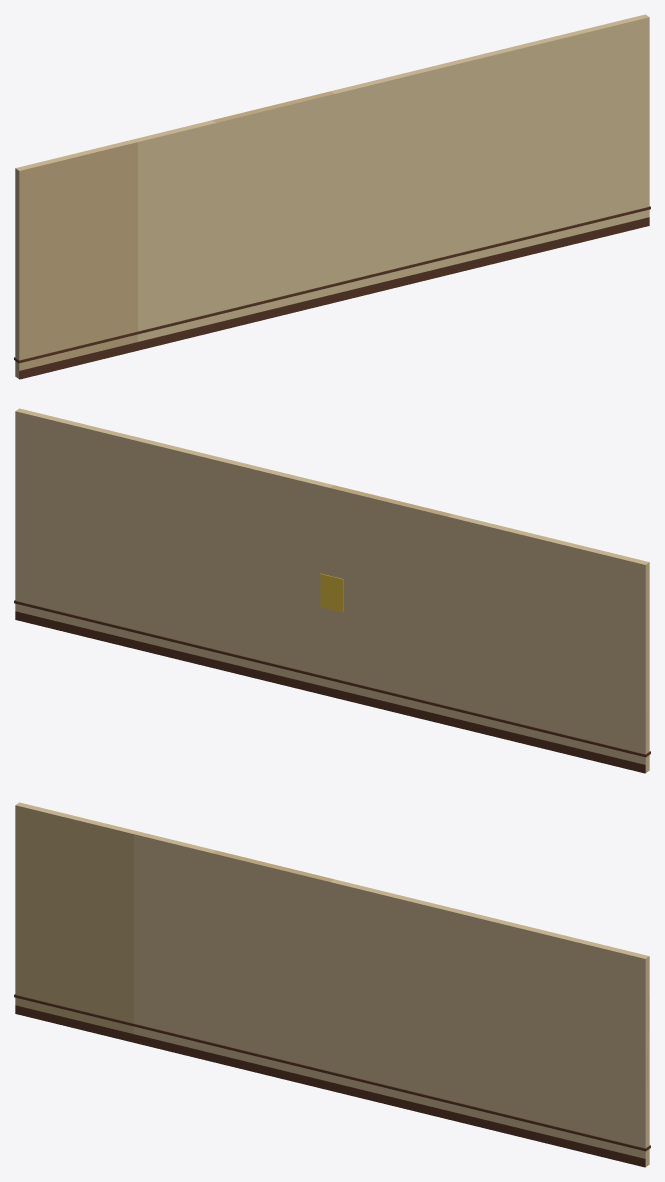
File: mall_west_back.glb
3 renders of one model, top to bottom at view 1: azimuth 30°, elevation 25°; view 2: azimuth 150°, elevation 25°; view 3: azimuth 330°, elevation 25°, orthographic.
Parts seen in each view (by area): view 1: Box1, Box2, Box4, Box5; view 2: Box1, Box2, Box4, Box5, Box3; view 3: Box1, Box2, Box4, Box5.
Boxes of the visible parts, bbox=[...] form: Box1: bbox=[15, 14, 649, 378]; Box2: bbox=[19, 217, 649, 379]; Box4: bbox=[15, 210, 648, 378]; Box5: bbox=[14, 206, 650, 363]; Box1: bbox=[15, 408, 649, 772]; Box2: bbox=[15, 611, 645, 773]; Box4: bbox=[15, 604, 649, 771]; Box5: bbox=[14, 600, 650, 757]; Box3: bbox=[320, 573, 343, 612]; Box1: bbox=[15, 802, 649, 1166]; Box2: bbox=[15, 1005, 645, 1167]; Box4: bbox=[15, 998, 649, 1166]; Box5: bbox=[14, 994, 650, 1151].
Size of the model in its own units: 13.97 by 4.4 by 0.192.
3 materials, 1 textured.
